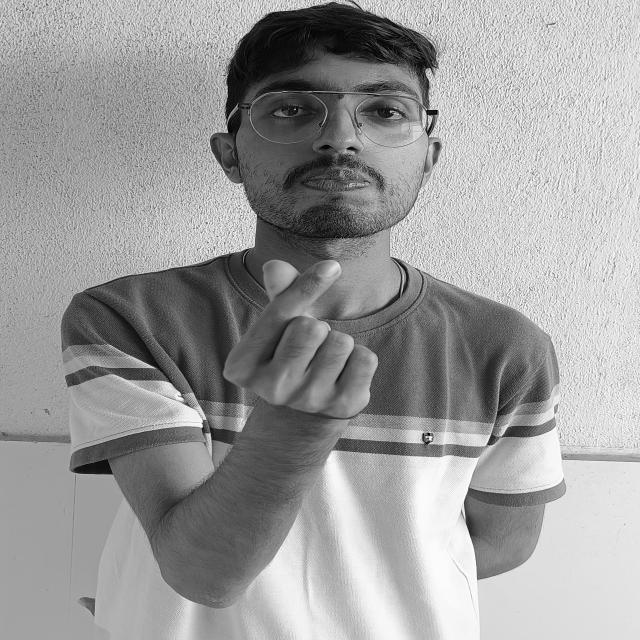Grattitude: (211, 252, 421, 441)
